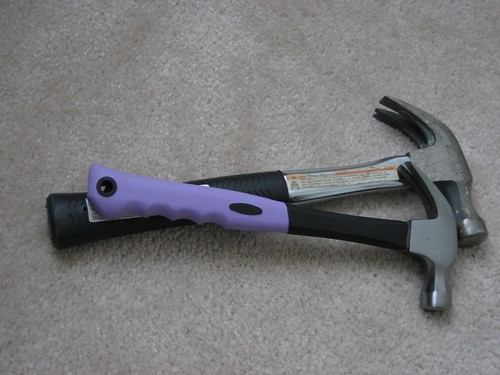hammer: (89, 163, 457, 315), (283, 96, 488, 249)
